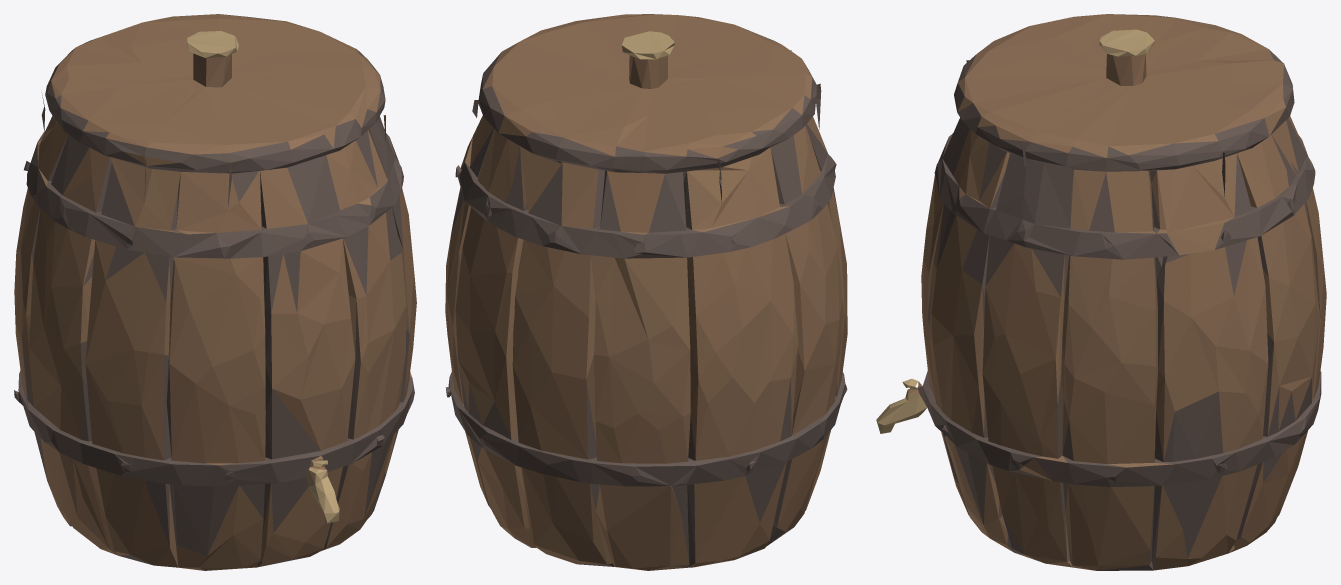
File: water_butt.glb
The picture shows the model from 3 angles, left to right: view 1: azimuth 30°, elevation 25°; view 2: azimuth 150°, elevation 25°; view 3: azimuth 270°, elevation 25°; orthographic projection.
Visible parts, largest first — view 1: geometry_0; view 2: geometry_0; view 3: geometry_0.
Part boxes in pixels (x1,y1,x2,y2): geometry_0: (14,14,416,570); geometry_0: (445,14,847,570); geometry_0: (876,14,1326,570).
Bounding box in the file's own units: 0.8251 × 1.05 × 0.9183.
